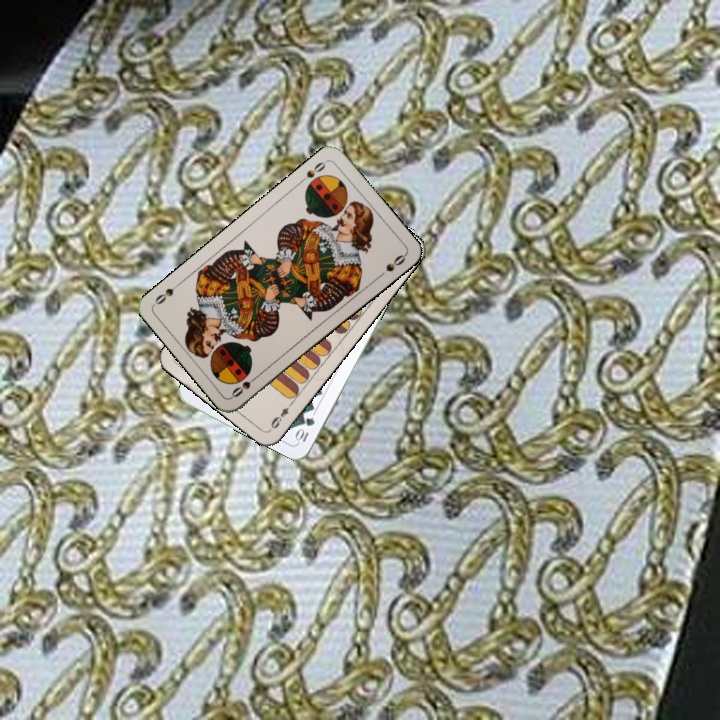E9: (266, 398, 296, 432)
G10: (292, 413, 318, 446)
SO: (227, 370, 262, 400), (295, 156, 330, 186)
